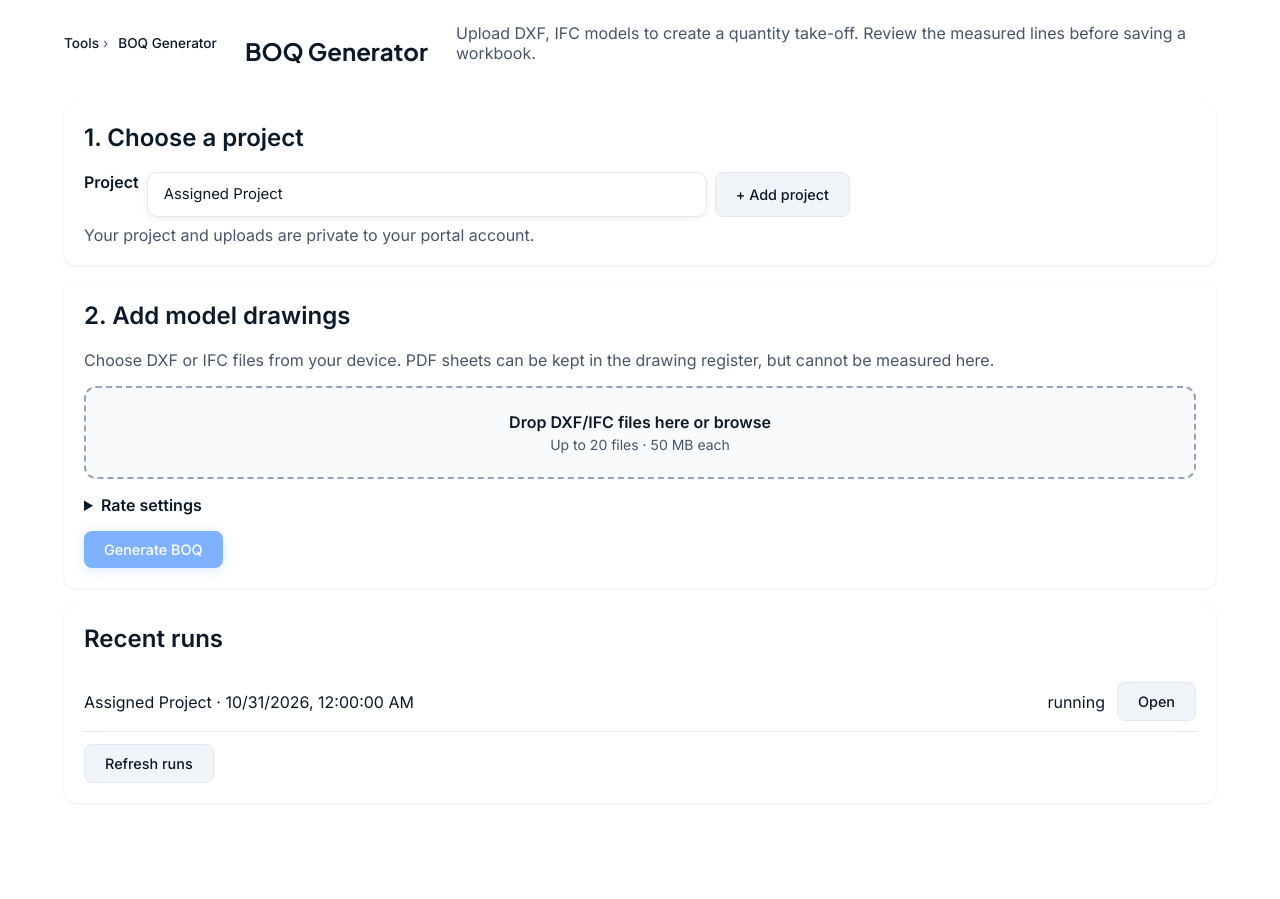
Scenario: BOQ Generator user workflow › updates the recent-run status after opening a completed job
Click the button "Open" at (1156, 702), box 1117,682 -> 1196,721
(page scrolled)
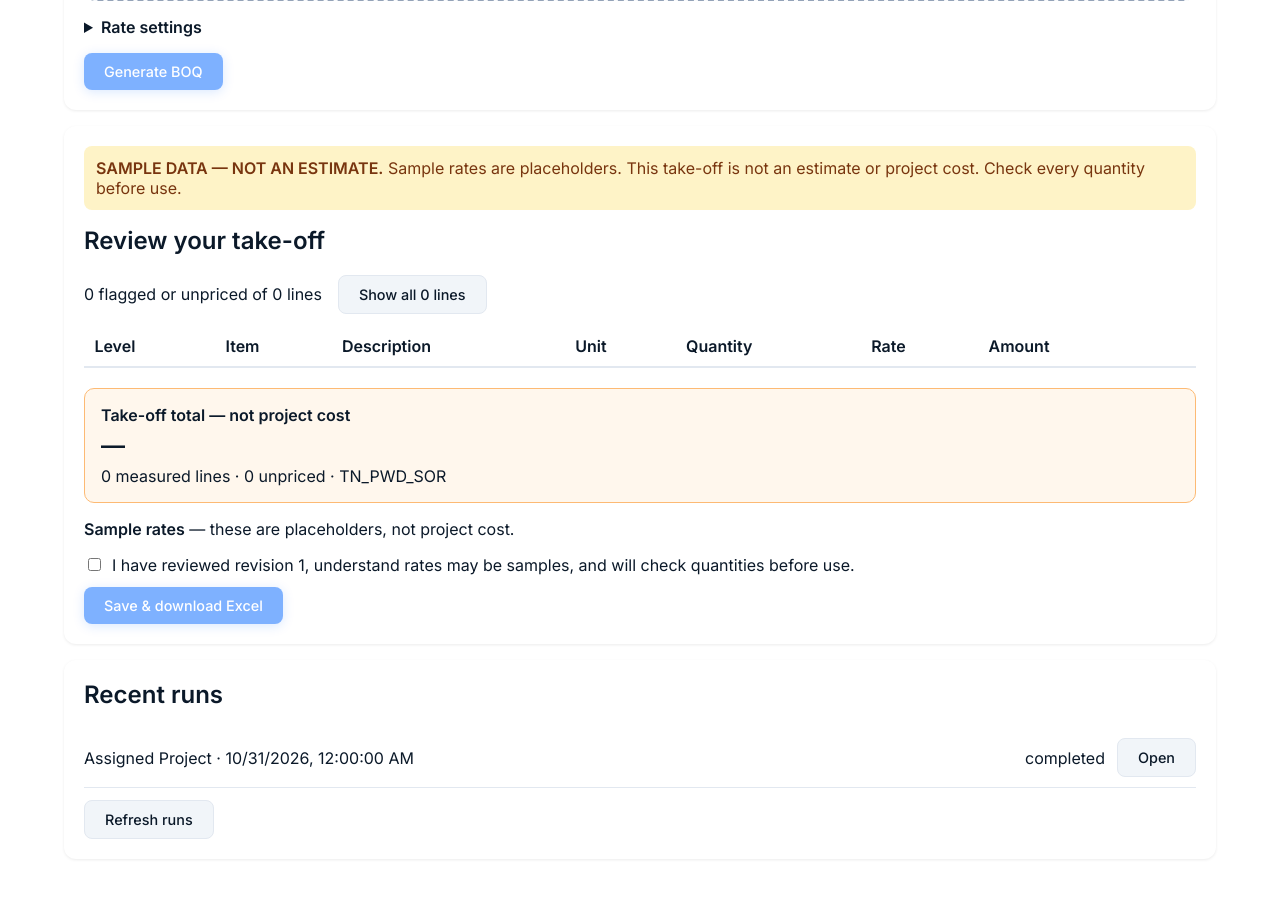
Result: the heading "Review your take-off" is shown at 84,226 -> 325,255
Result: the text "completed" is shown at 1025,748 -> 1105,768
